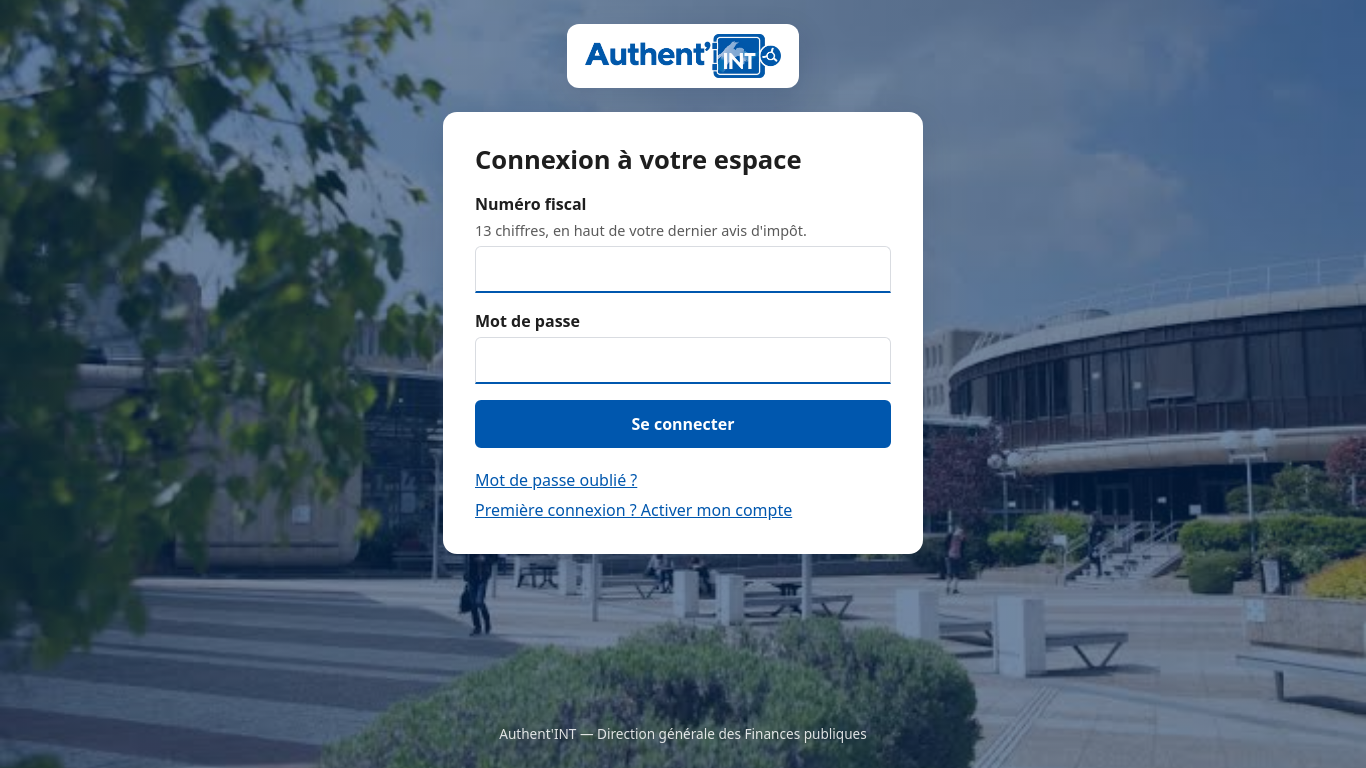
Test: login › a wrong password → its French message, and the password field is emptied
The image size is (1366, 768).
Type "1234567890123" into the field labelled "Numéro fiscal" at (683, 269), box [475,246,891,293]
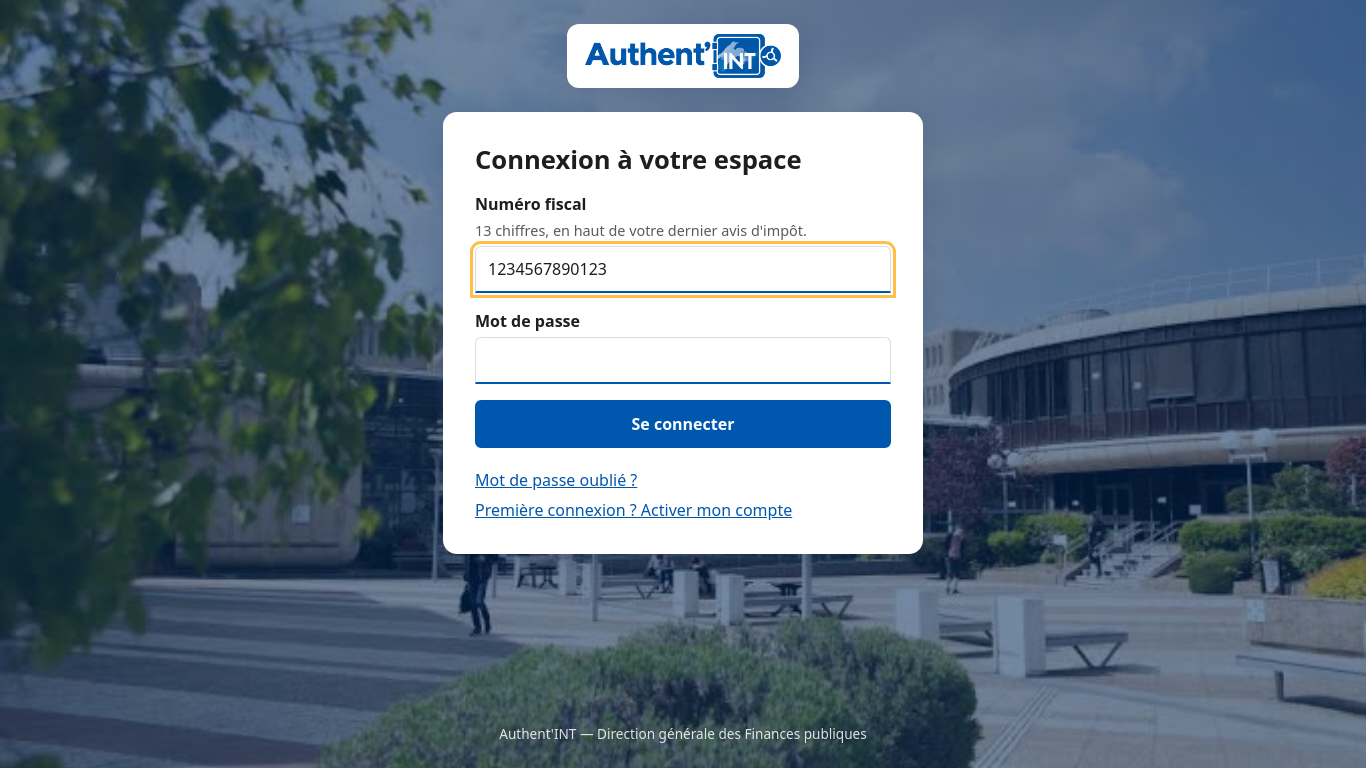
Type "mauvais-mot-de-passe" into the password field labelled "Mot de passe" at (683, 360), box [475,337,891,384]
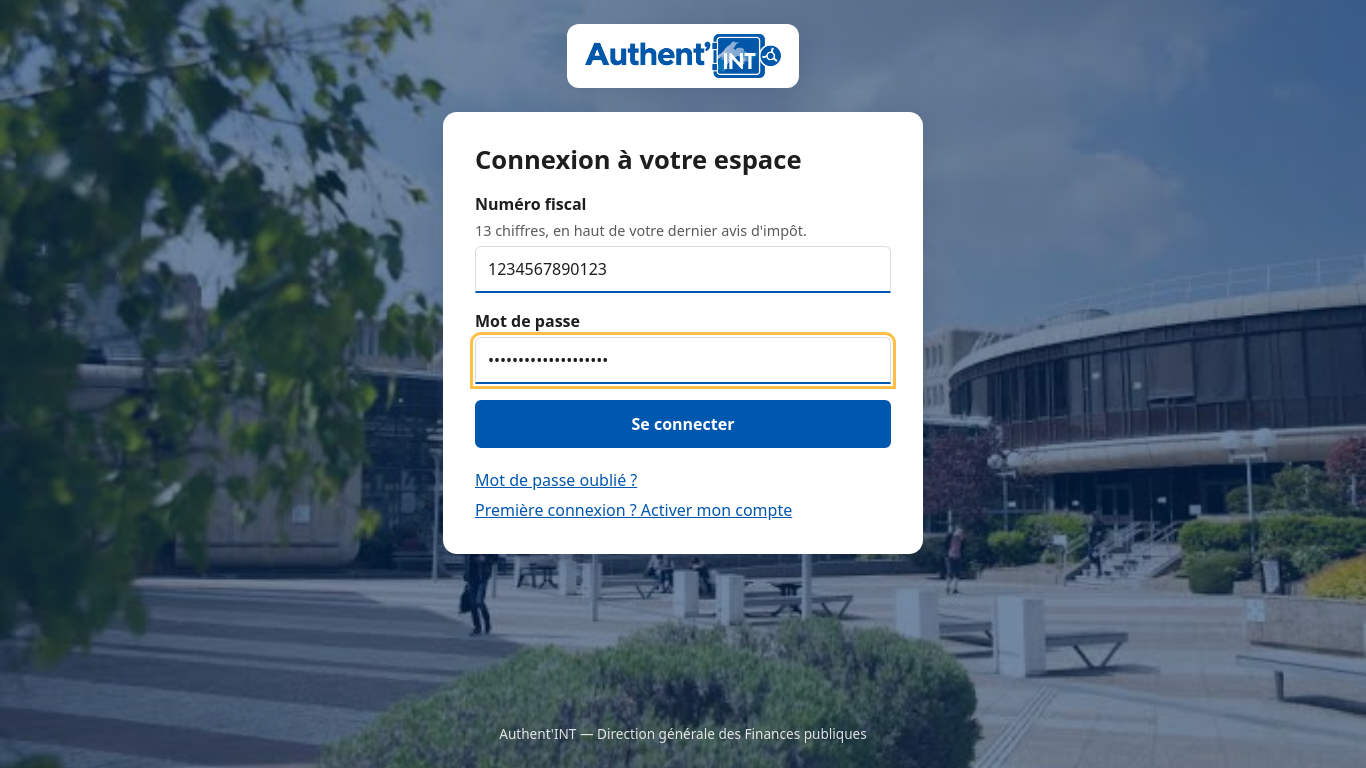
Click the button "Se connecter" at (683, 424), box [475,400,891,448]
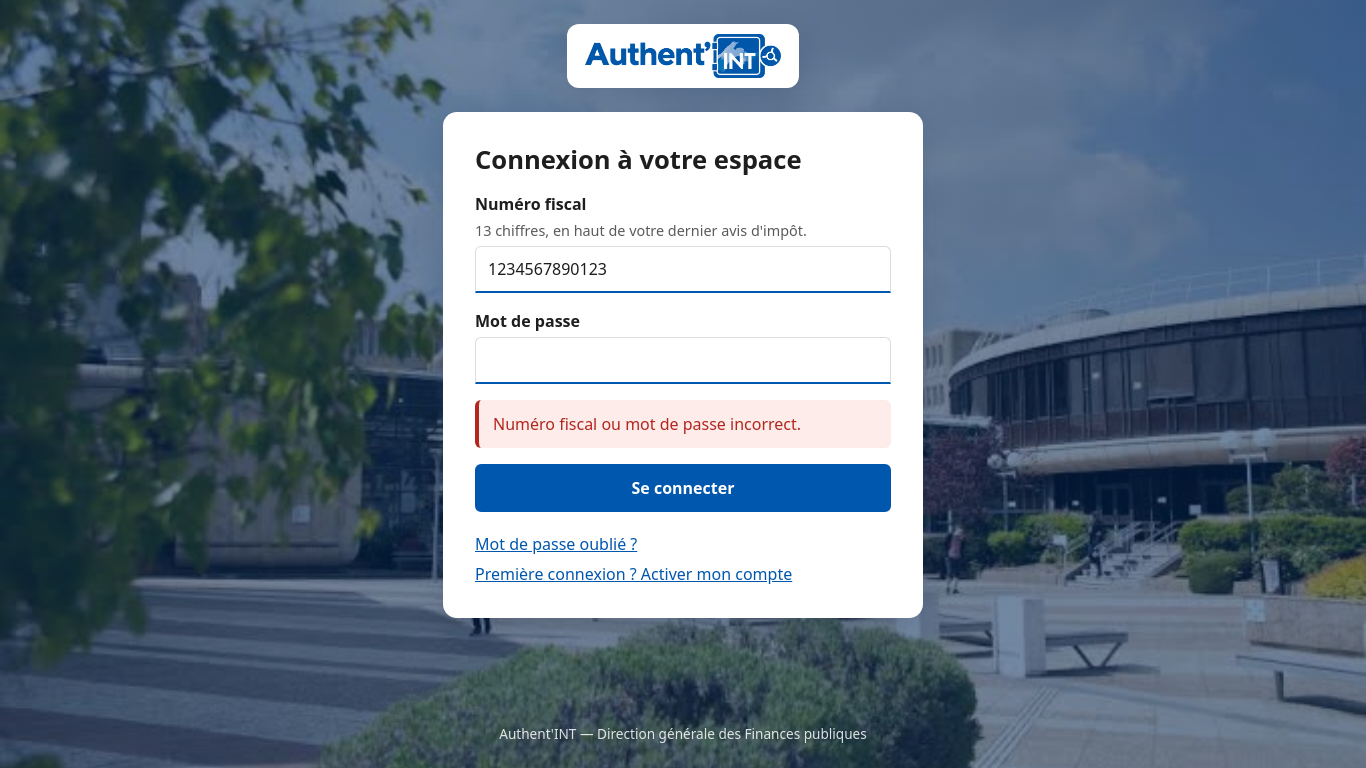
Now the message reads "Numéro fiscal ou mot de passe incorrect.", box [493,413,801,435]
Now the password field labelled "Mot de passe" is empty, box [475,337,891,384]
